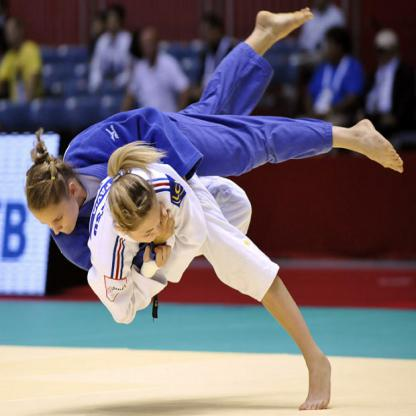Fall_Down: (88, 156, 334, 408)
